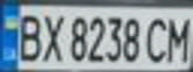2: (84, 11, 109, 63)
3: (103, 12, 127, 63)
8: (121, 12, 145, 64), (66, 11, 90, 63)
B: (12, 10, 45, 62)
C: (142, 13, 172, 64)
M: (163, 12, 193, 63)
X: (36, 10, 66, 63)
